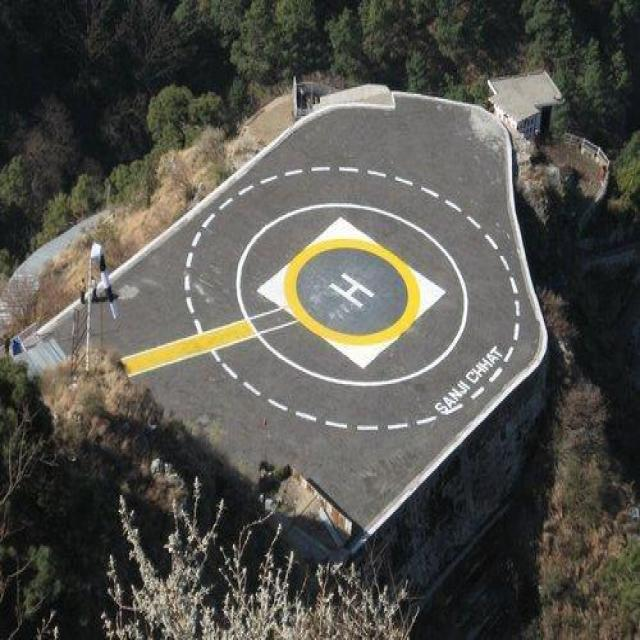helipad: (282, 232, 419, 343)
